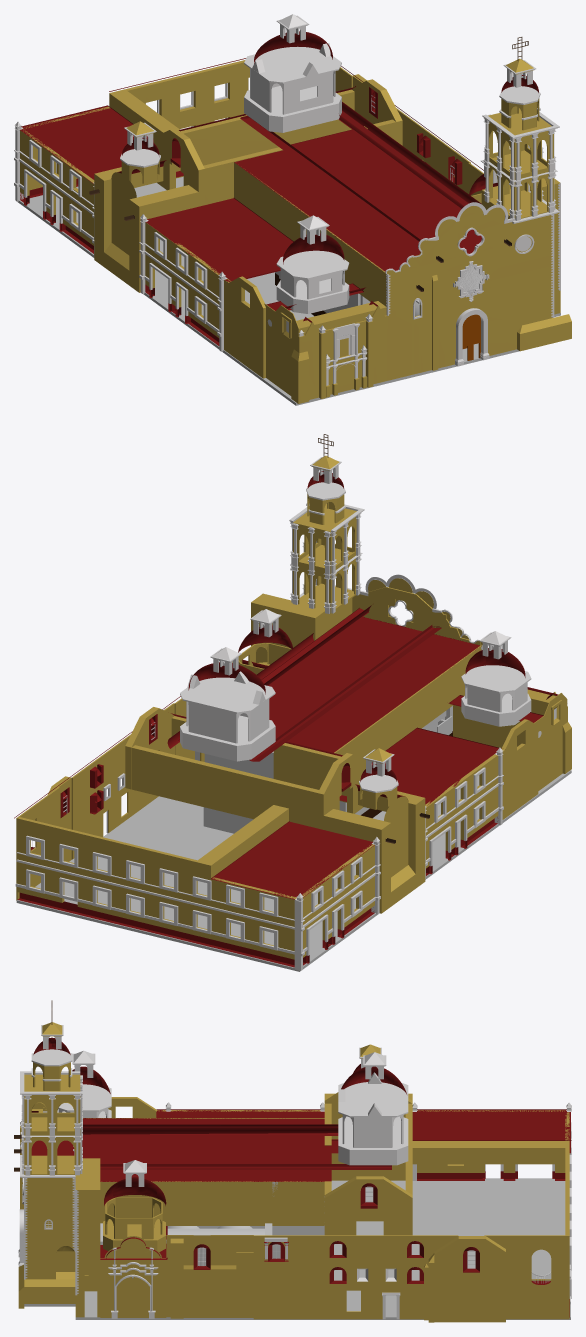
File: iglesia_completa.fbx
The picture shows the model from 3 angles, top to bottom: view 1: azimuth 30°, elevation 25°; view 2: azimuth 150°, elevation 25°; view 3: azimuth 270°, elevation 25°; orthographic projection. The views are drawn at different scales.
Parts seen in each view (by area): view 1: pared_map_d3dbsp_t7_concrete_floor_sealed_01_warm2, t7_ceramic_tiles_6x6_dirty_03, t7_concrete_gunite_pool_01, aac_wood_mahogany_01; view 2: pared_map_d3dbsp_t7_concrete_floor_sealed_01_warm2, t7_ceramic_tiles_6x6_dirty_03, t7_concrete_gunite_pool_01; view 3: pared_map_d3dbsp_t7_concrete_floor_sealed_01_warm2, t7_ceramic_tiles_6x6_dirty_03, t7_concrete_gunite_pool_01.
Part boxes in pixels (<box>): pared_map_d3dbsp_t7_concrete_floor_sealed_01_warm2: <box>14,14,571,403</box>; t7_ceramic_tiles_6x6_dirty_03: <box>18,176,560,405</box>; t7_concrete_gunite_pool_01: <box>275,266,483,316</box>; aac_wood_mahogany_01: <box>462,314,480,360</box>; pared_map_d3dbsp_t7_concrete_floor_sealed_01_warm2: <box>14,434,571,970</box>; t7_ceramic_tiles_6x6_dirty_03: <box>16,770,571,971</box>; t7_concrete_gunite_pool_01: <box>195,706,452,833</box>; pared_map_d3dbsp_t7_concrete_floor_sealed_01_warm2: <box>14,1000,571,1322</box>; t7_ceramic_tiles_6x6_dirty_03: <box>24,1178,570,1319</box>; t7_concrete_gunite_pool_01: <box>100,1182,324,1265</box>.
Bounding box in the file's own units: 1977 × 1808 × 3115.
